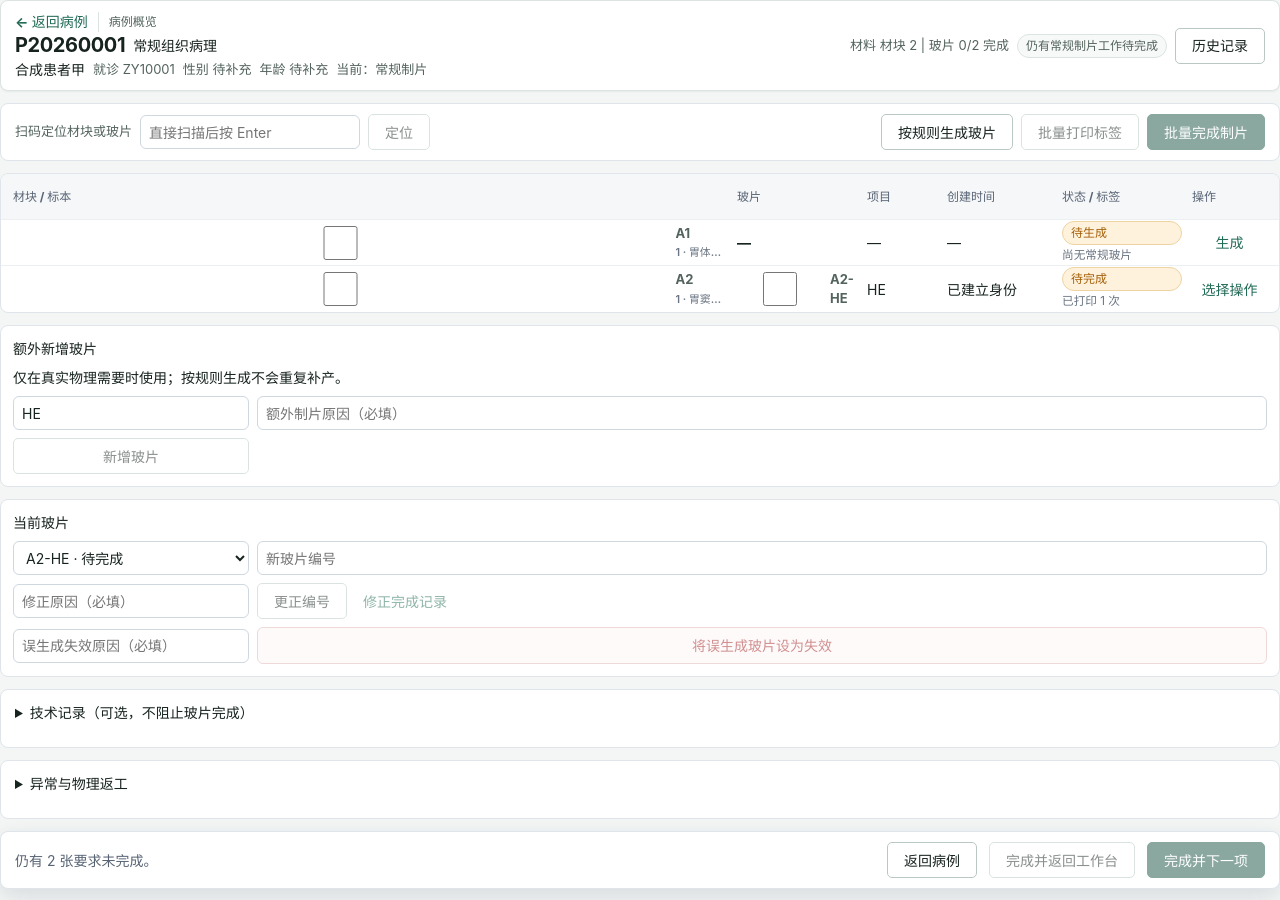
Scenario: V2RoutineProductionWorkspace › uses backend actions and batch selection to complete a slide without trace prerequisites
The width and height of the screenshot is (1280, 900).
Step 1. Click the checkbox labelled "A2-HE" → [780, 289], box [741,272,819,306]
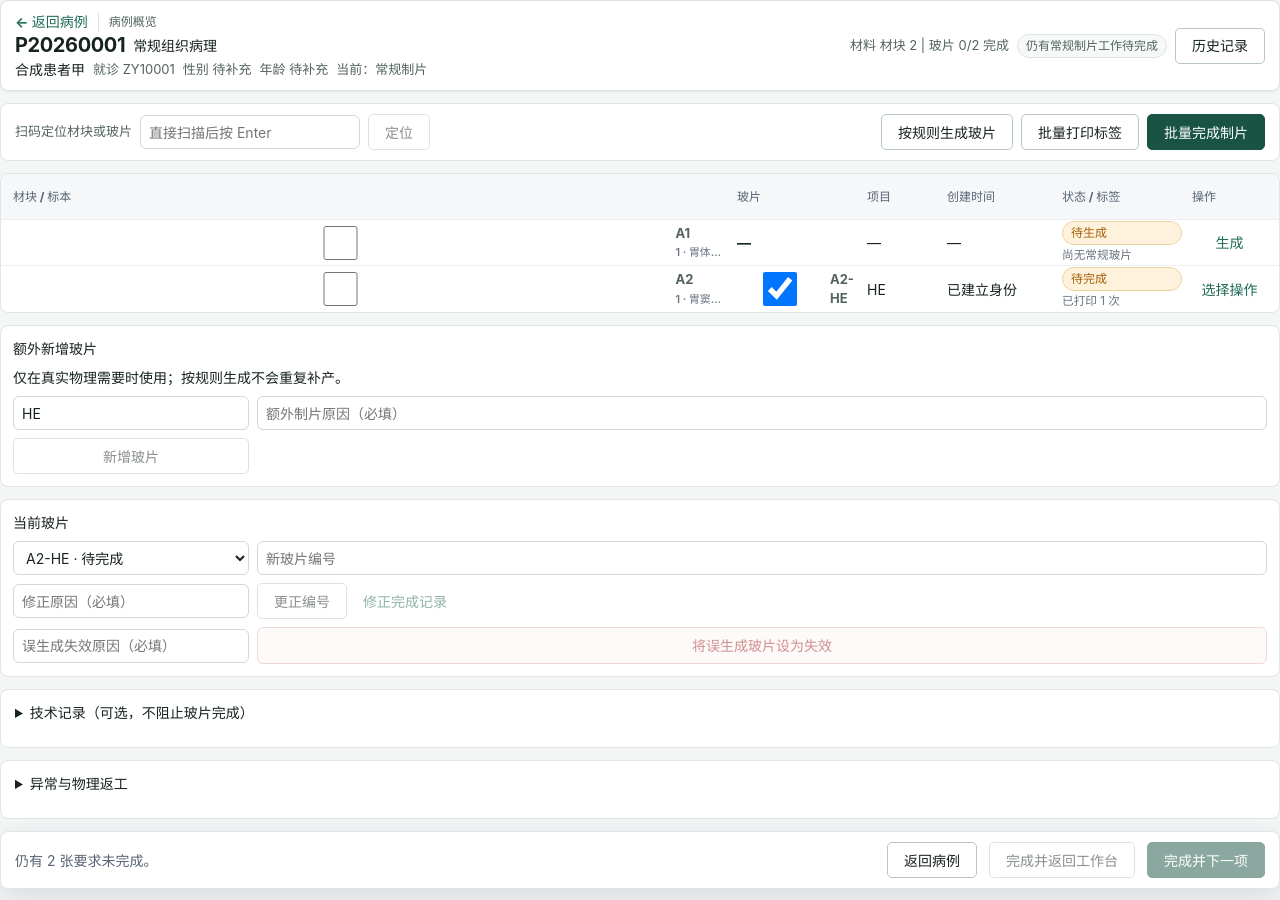
Step 2. Click the button "批量完成制片" → [1206, 132], box [1147,114,1265,150]
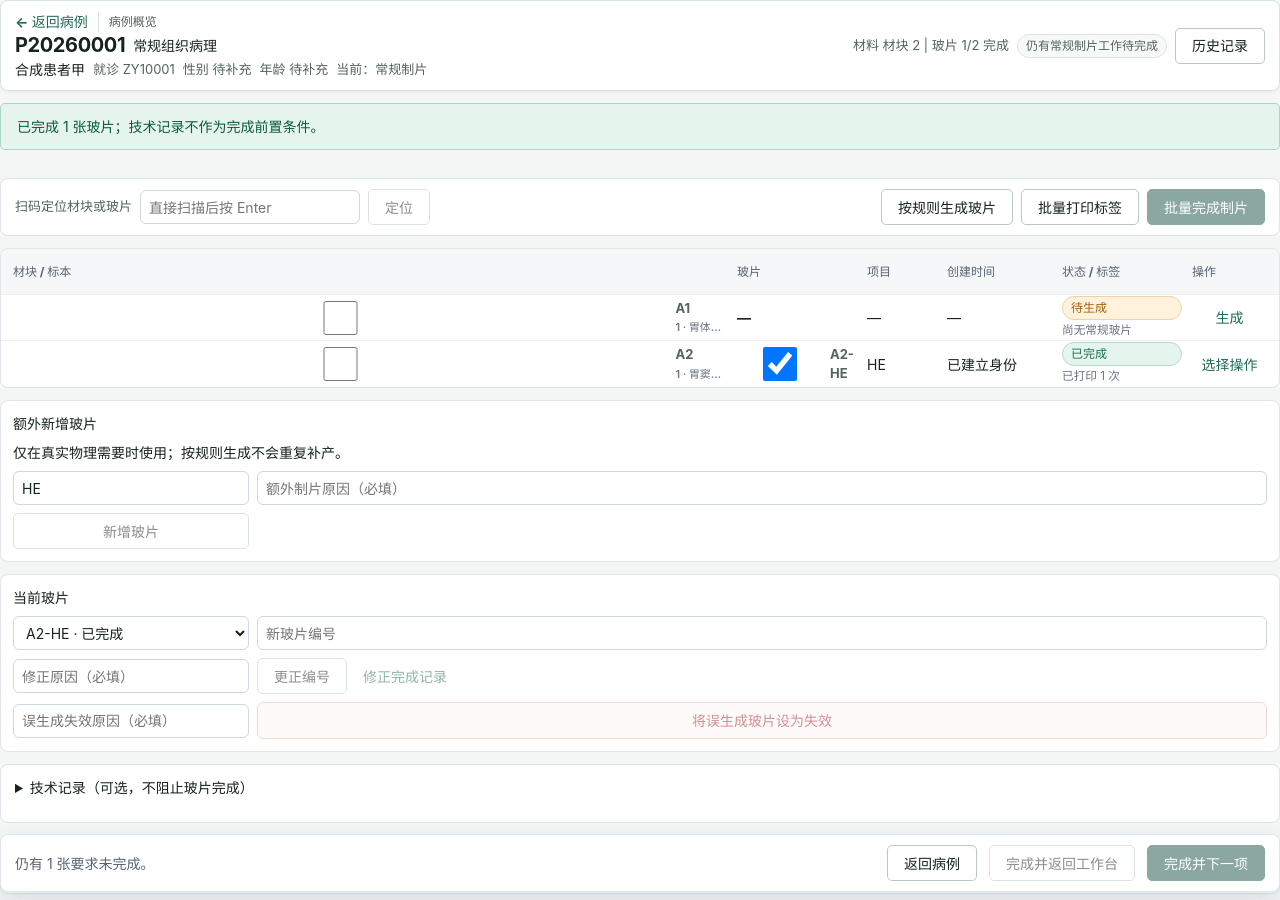
expect the text "技术记录不作为完成前置条件" is shown: met, box [17,118,325,135]
